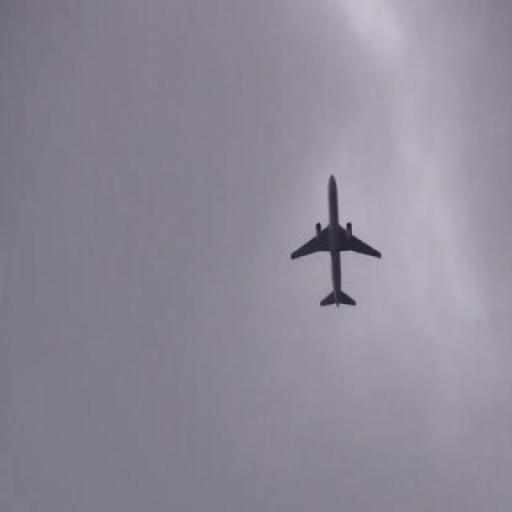aircraft: (290, 174, 383, 305)
